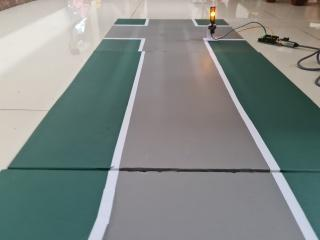yellow: (207, 2, 221, 24)
